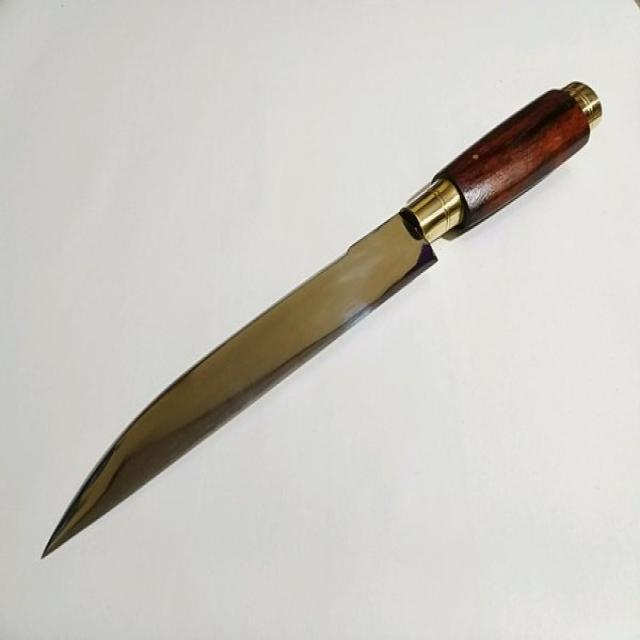Pisau: (33, 70, 612, 572)
